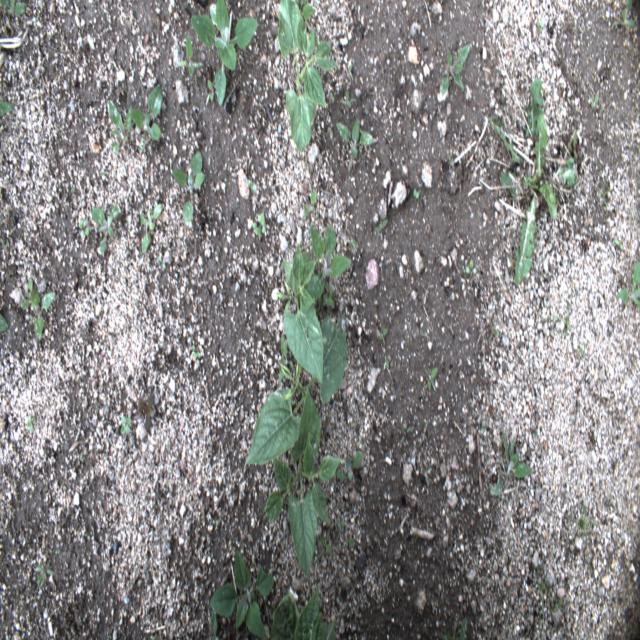crop: (243, 313, 347, 470), (264, 386, 341, 577), (278, 0, 340, 153), (276, 241, 324, 385), (268, 580, 337, 640)
weed: (488, 77, 583, 284), (190, 0, 258, 109), (209, 549, 274, 638), (302, 222, 351, 306), (489, 428, 533, 496), (172, 149, 205, 227), (129, 82, 163, 152), (22, 278, 57, 342), (335, 113, 376, 159), (441, 42, 470, 96), (91, 204, 121, 256), (616, 258, 640, 313), (175, 34, 203, 80), (140, 202, 162, 254), (108, 97, 132, 140), (336, 450, 363, 482), (304, 189, 318, 217), (253, 213, 266, 235)
